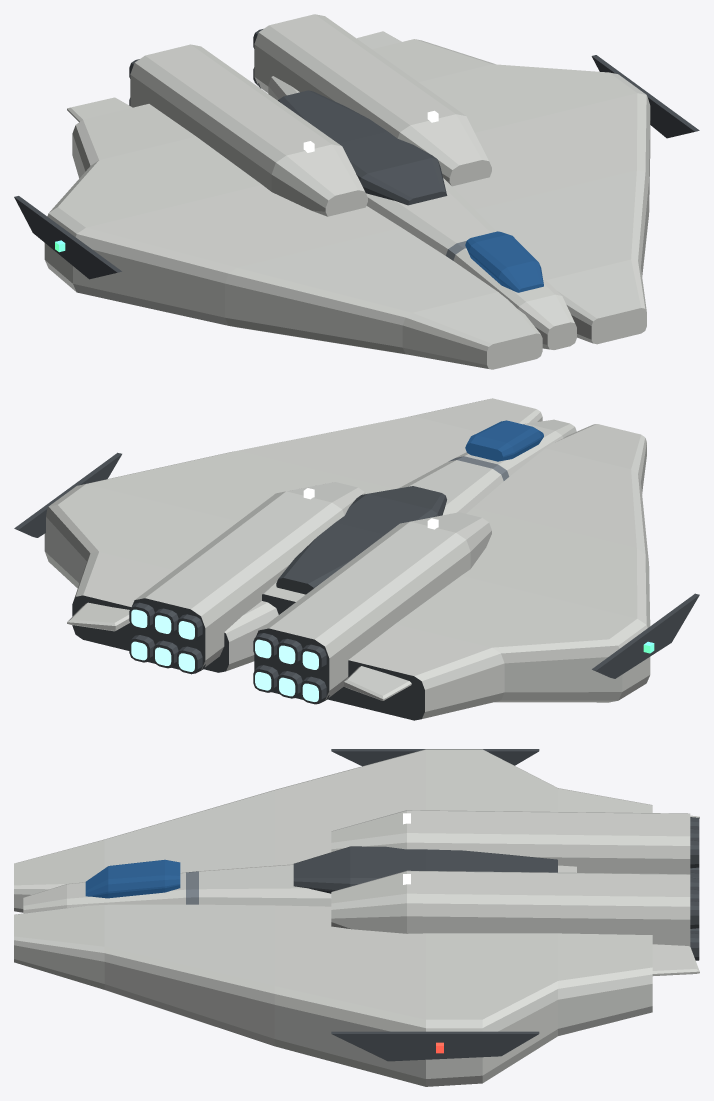
Rendered from krait-mk2.glb.
3 views of the same model, one above another, from view 1: azimuth 30°, elevation 25°; view 2: azimuth 150°, elevation 25°; view 3: azimuth 270°, elevation 25° (orthographic).
Visible parts, largest first — view 1: krait-mk2; view 2: krait-mk2; view 3: krait-mk2.
Part boxes in pixels (x1,y1,x2,y2): krait-mk2: (14,14,699,369); krait-mk2: (14,398,699,720); krait-mk2: (14,749,699,1086).
Size of the model in its own units: 72.97 by 15.47 by 72.62.
